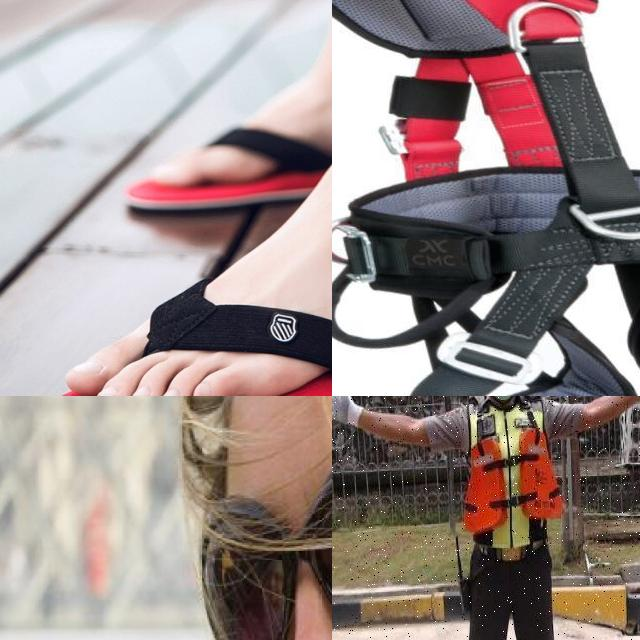Harness: (332, 0, 640, 396)
Sandals: (46, 235, 332, 396)
face_nomask: (195, 426, 332, 640)
glasses: (202, 431, 332, 640)
person: (332, 396, 640, 640)
vest: (462, 396, 565, 557)
